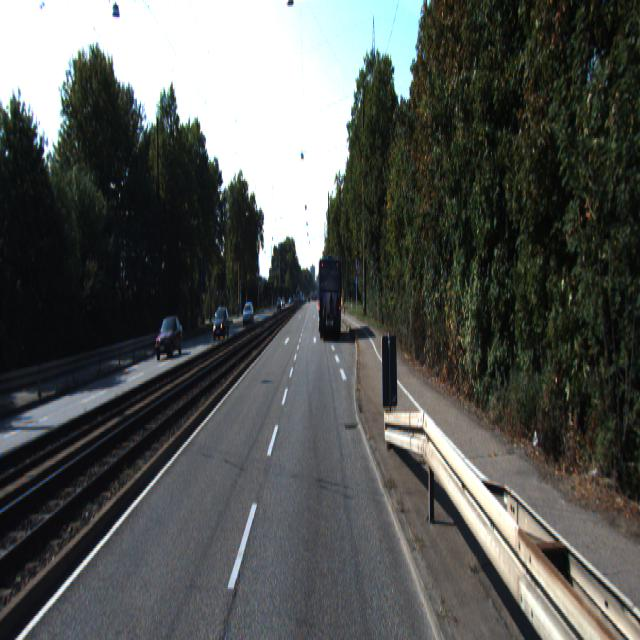Car: (319, 257, 342, 342), (154, 317, 184, 362)
